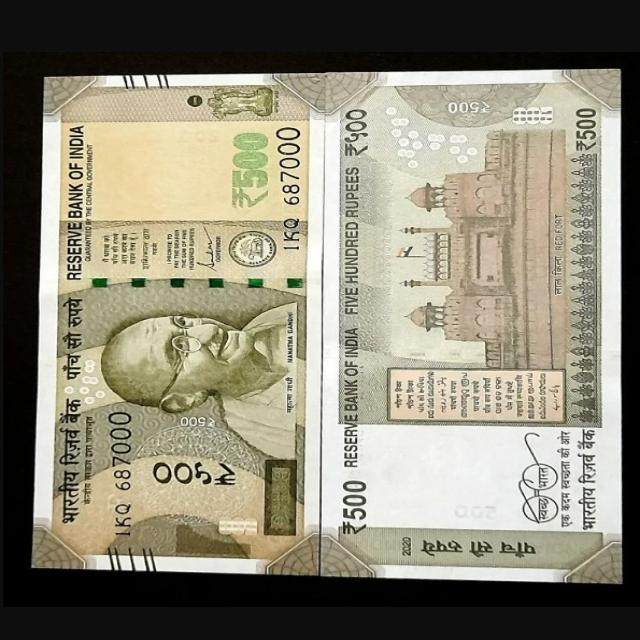500IndianRupees: (41, 76, 330, 574)
